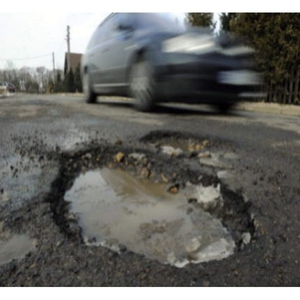pothole: (41, 144, 248, 273), (141, 127, 240, 162)
